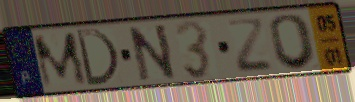3: (174, 18, 214, 81)
D: (73, 27, 122, 88)
M: (30, 29, 91, 91)
N: (125, 22, 179, 84)
O: (267, 12, 320, 72)
Z: (224, 17, 275, 75)
